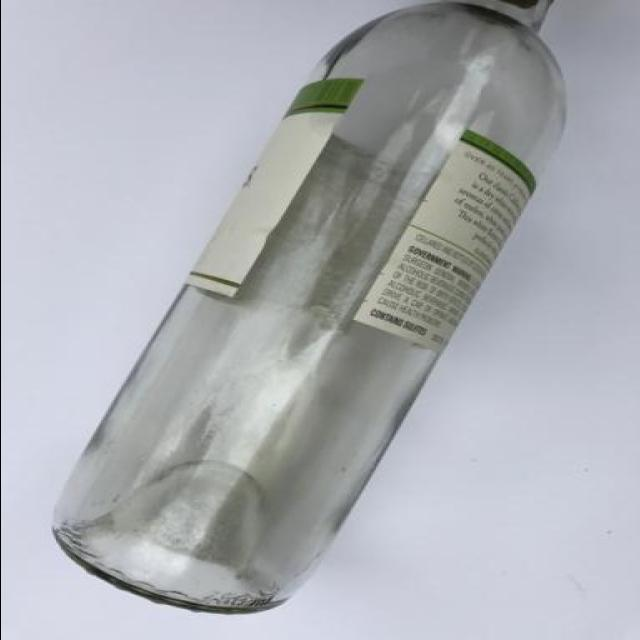glass: (32, 0, 627, 619)
